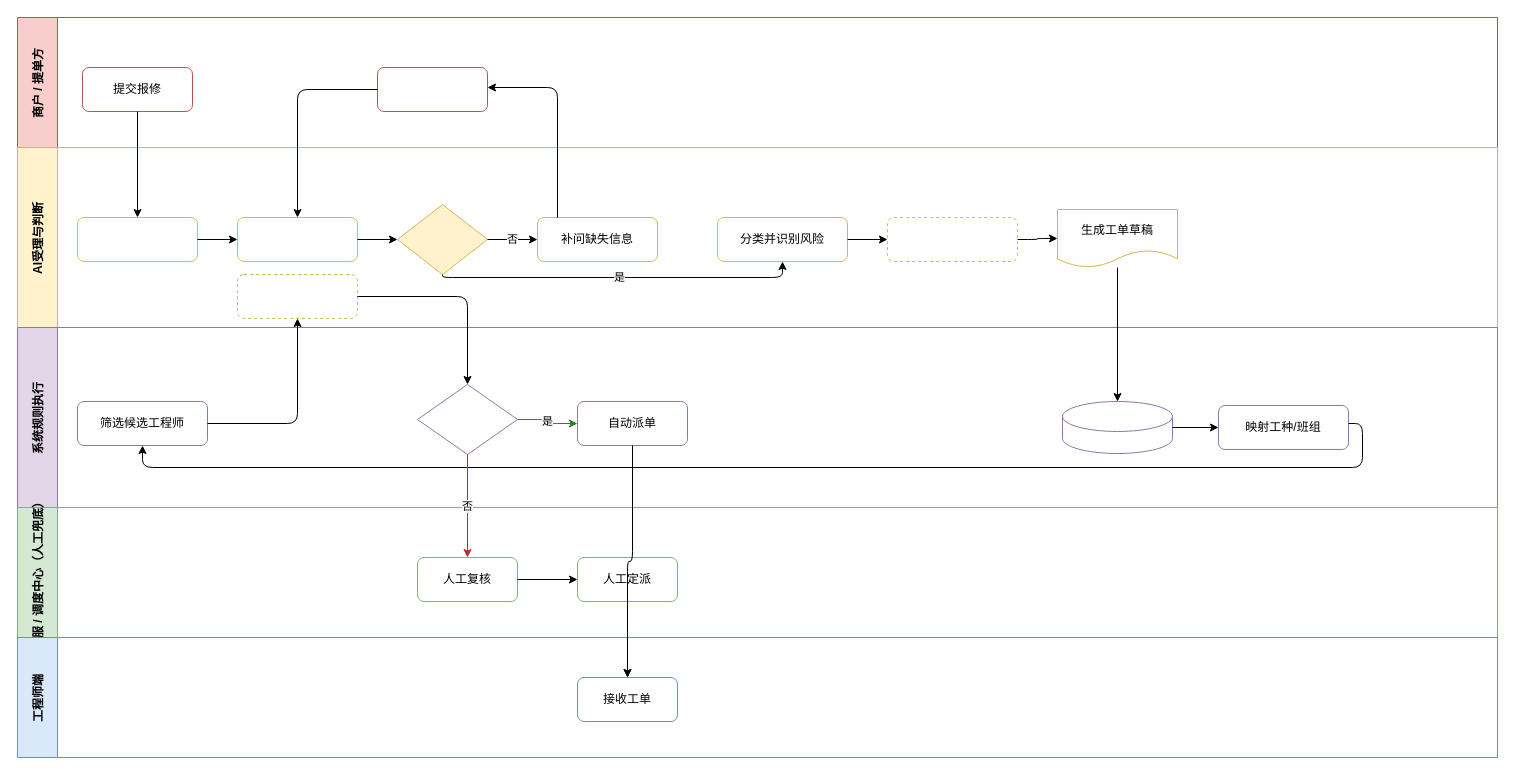
Some shapes in this 1515 by 775 pixel diagram are drawn without their labels. Each missing label, with the centre of its shape:
AI给出候选建议: point 297,296
信息完整？: point 442,239
可自动派单？: point 467,419
提取关键信息: point 297,239
正式建单: point 1117,427
给出优先级建议: point 952,239
补充信息: point 432,89
识别报修意图: point 137,239
